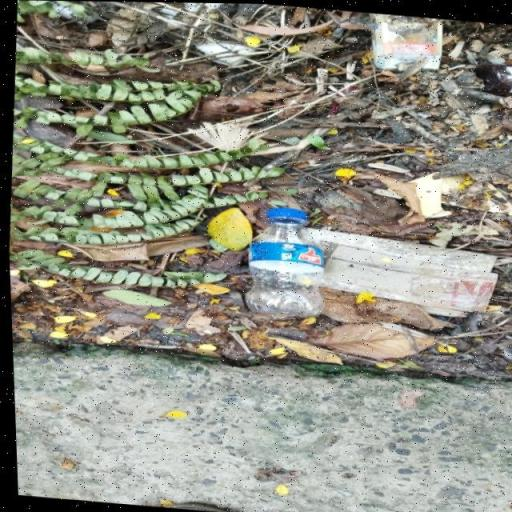plastic: (238, 203, 330, 318)
